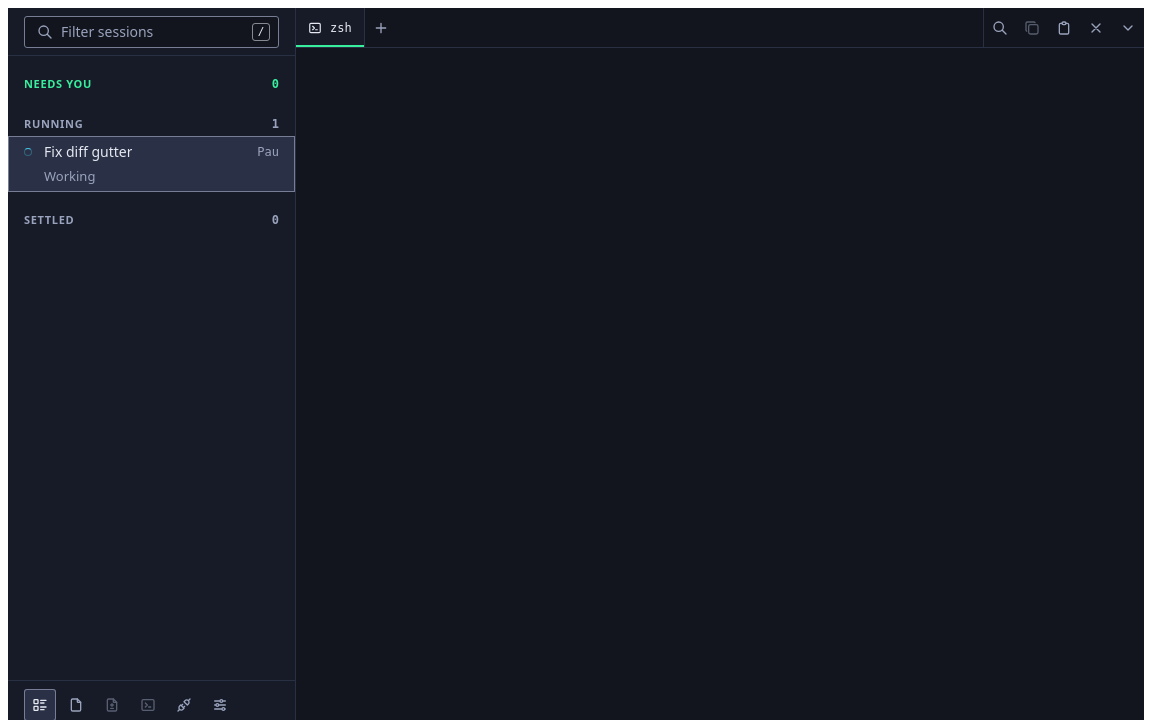
Test case: gives the dock the whole main surface on a narrow window
Expected: the tab "zsh" is shown, [296, 8, 365, 47]
Click the button named "Hide terminal dock" at (1128, 28), box [1112, 8, 1144, 47]
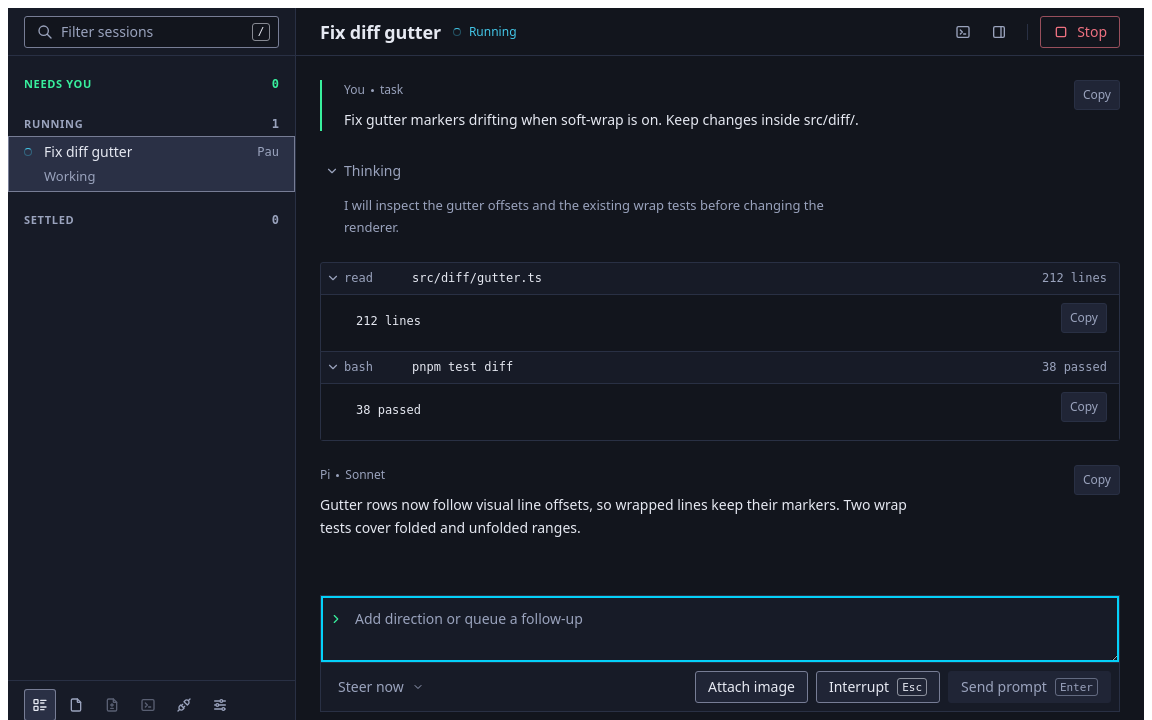
Expected: the element named "Transcript" is shown, [296, 56, 1144, 595]
